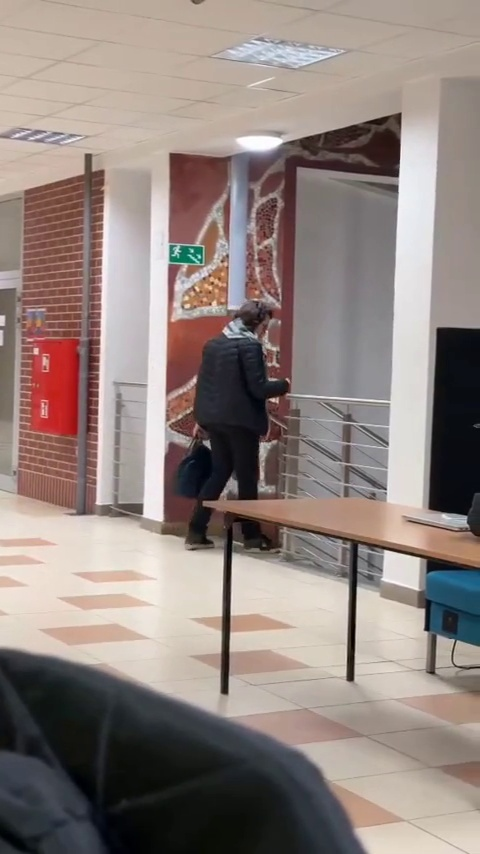no vest: (184, 302, 284, 554)
